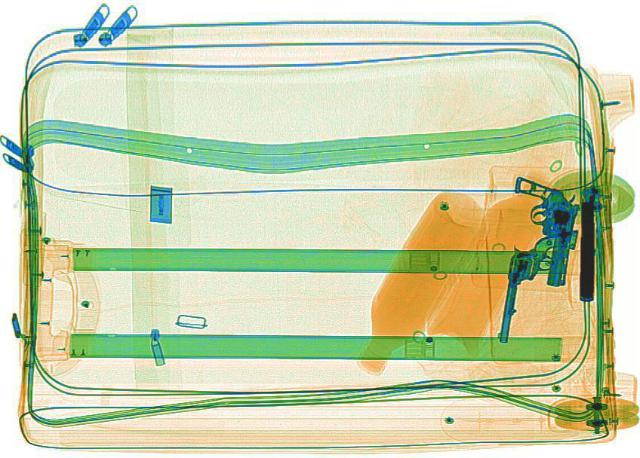Gun: (467, 221, 579, 346), (505, 171, 583, 293), (574, 183, 602, 299)
